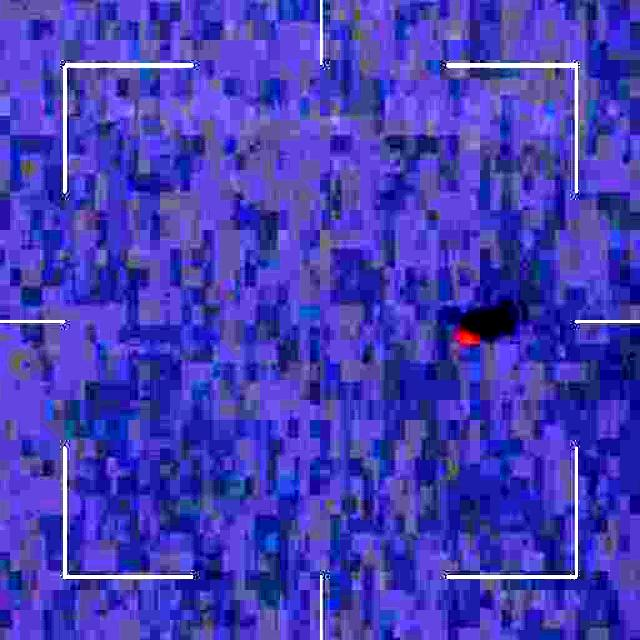bird: (456, 315, 486, 364)
